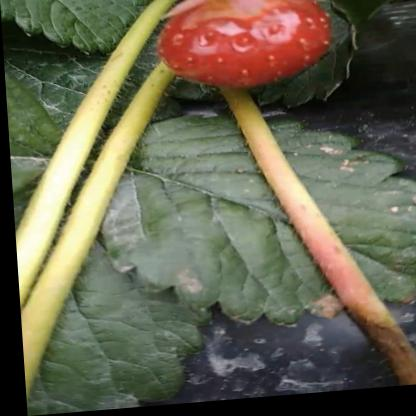ripe: (159, 0, 332, 99)
